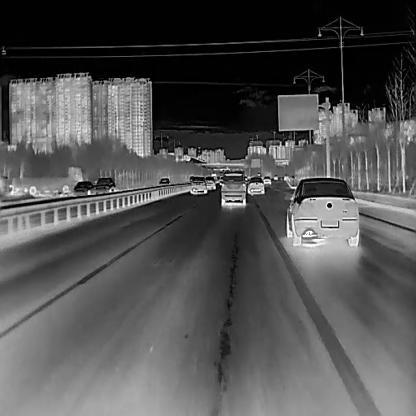car: (285, 176, 359, 246), (8, 165, 86, 197), (220, 169, 246, 206), (94, 177, 115, 193), (189, 175, 207, 193), (246, 176, 264, 194), (72, 180, 94, 194), (204, 177, 215, 189), (157, 177, 169, 186), (262, 175, 271, 185)
